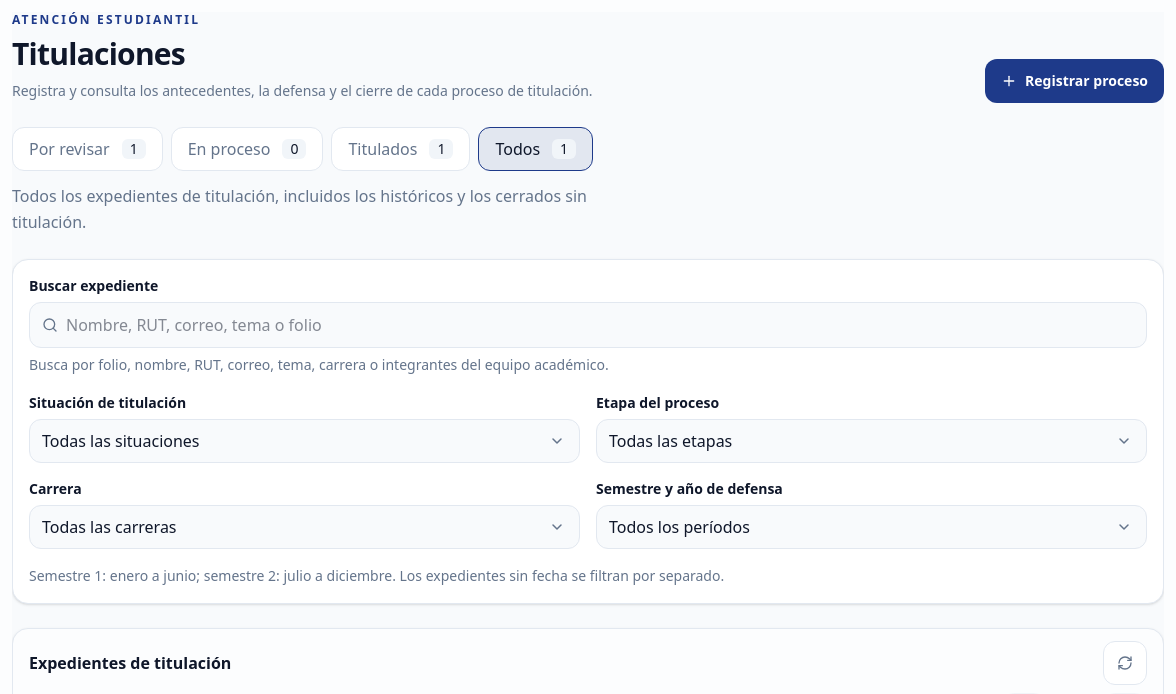
TitulationWorkspace › debounces typing, highlights the original spelling, and clears immediately
Type "DU" into the search field labelled "Buscar expediente" at [606, 325], box [66,303,1146,347]
Wait 200 ms
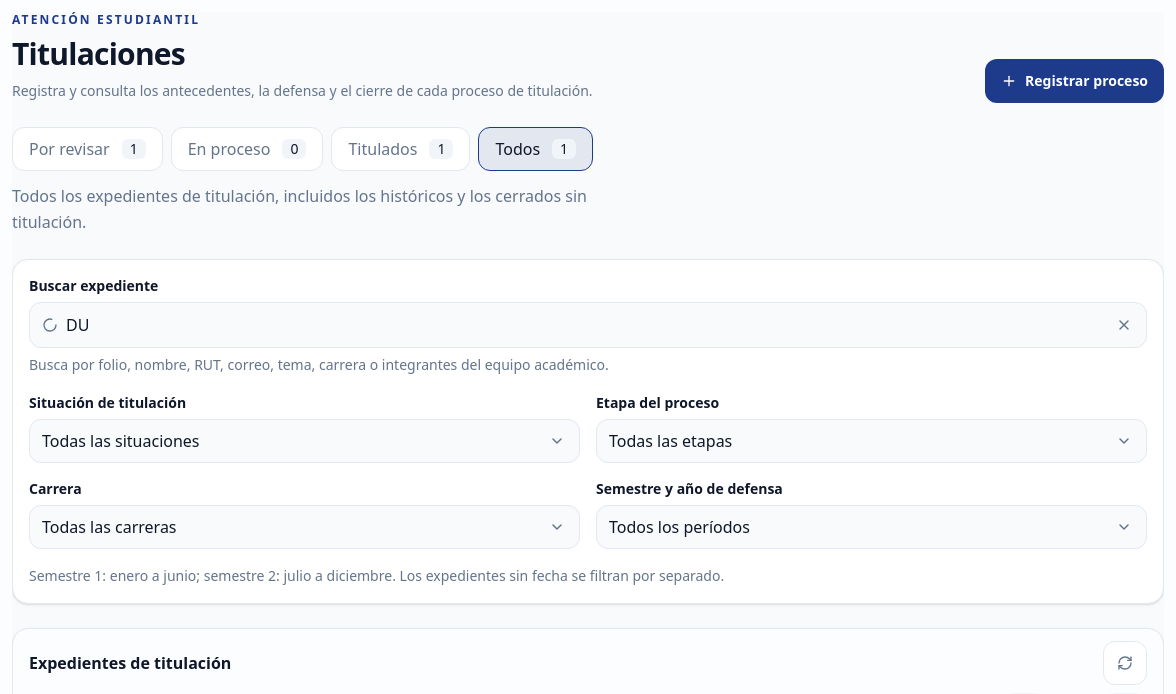
Replace the text in the search field labelled "Buscar expediente" with "DURAN" at [580, 325], box [66,303,1094,347]
Wait 300 ms
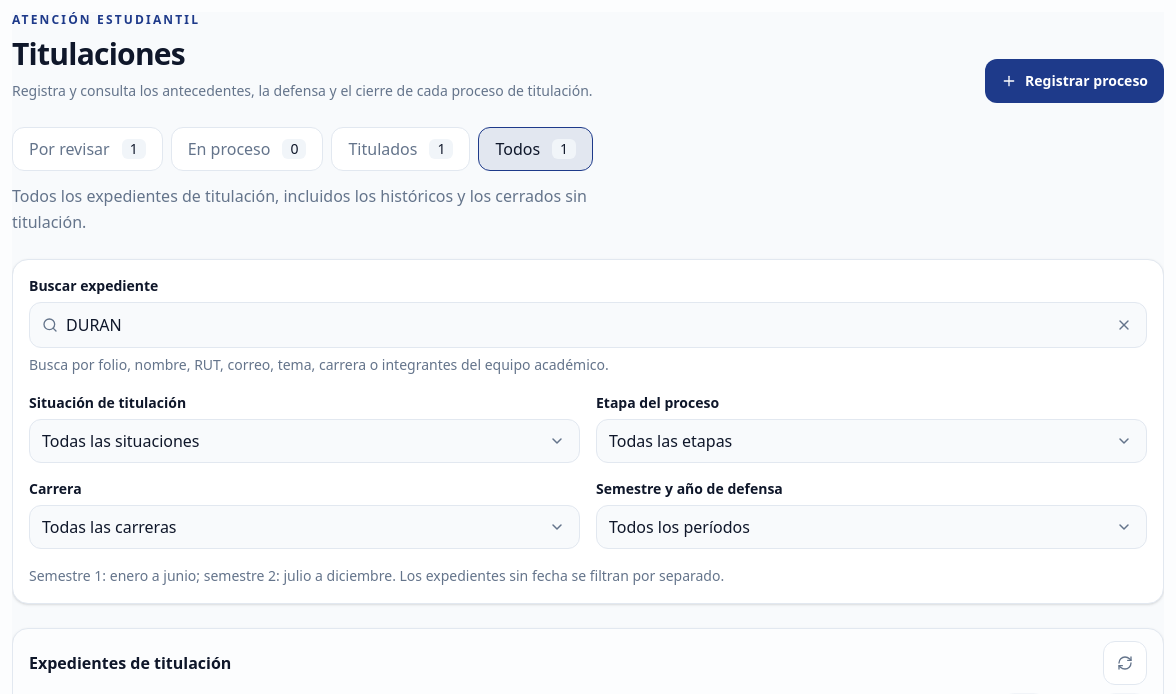
Click the button named "Borrar búsqueda" at [1124, 325], box [1102,303,1146,347]
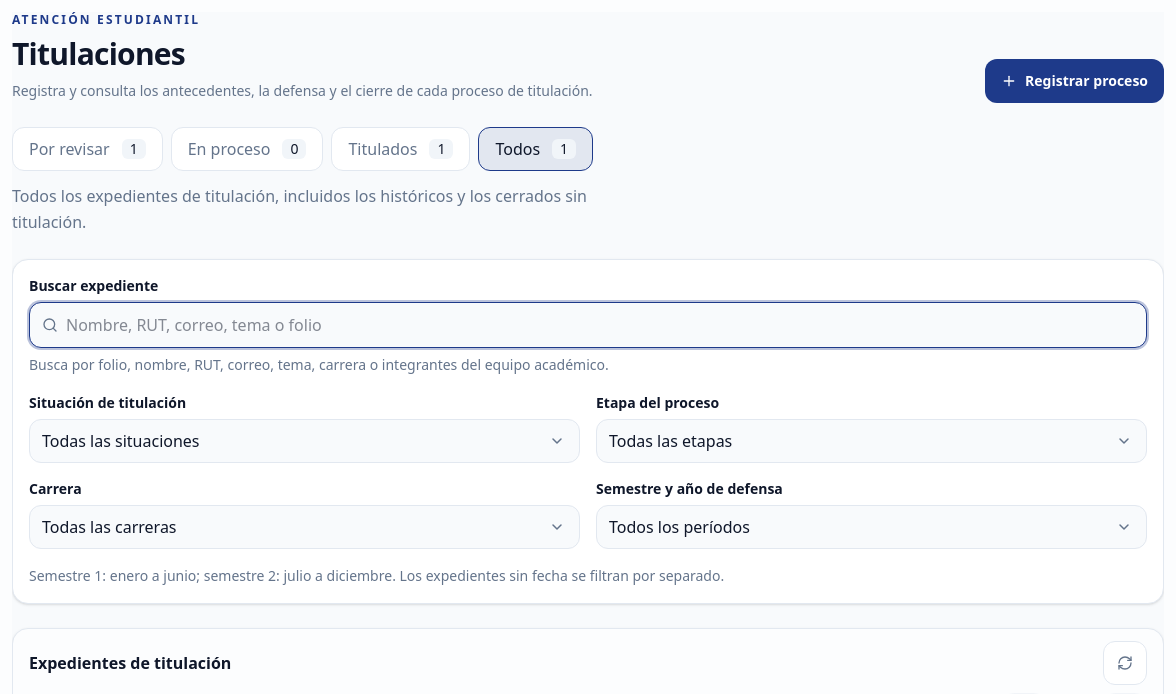
Now the search field labelled "Buscar expediente" is empty, box [66,303,1146,347]
